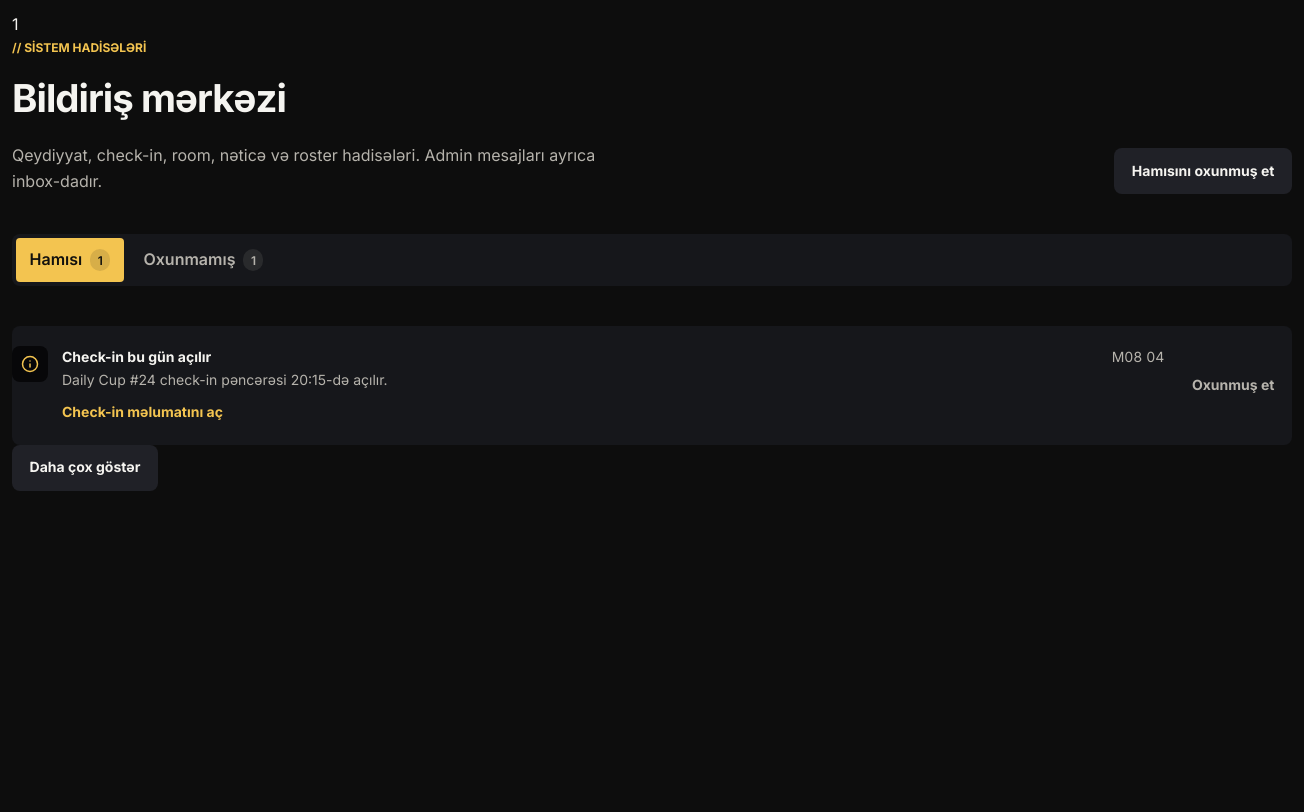
workspace acknowledged persistence and authority › updates shared notification state only after acknowledgement without refetching
Click the button "Hamısını oxunmuş et": (1203, 171) x1=1114 y1=148 x2=1292 y2=194
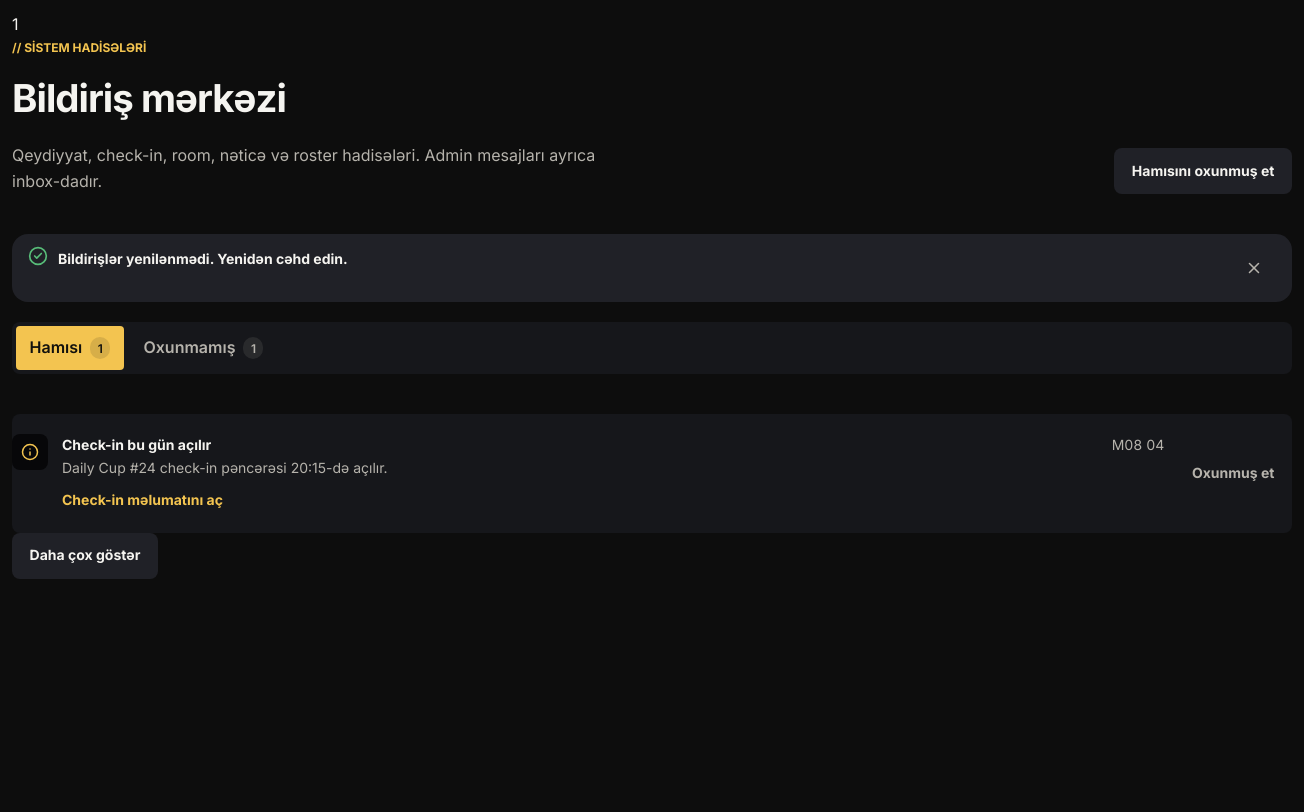
Expected: the text named "Unread count" reads "1", x1=12 y1=14 x2=18 y2=34
Expected: the text "Bildirişlər yenilənmədi. Yenidən cəhd edin." is shown, x1=58 y1=250 x2=348 y2=267
Click the button "Hamısını oxunmuş et": (1203, 171) x1=1114 y1=148 x2=1292 y2=194
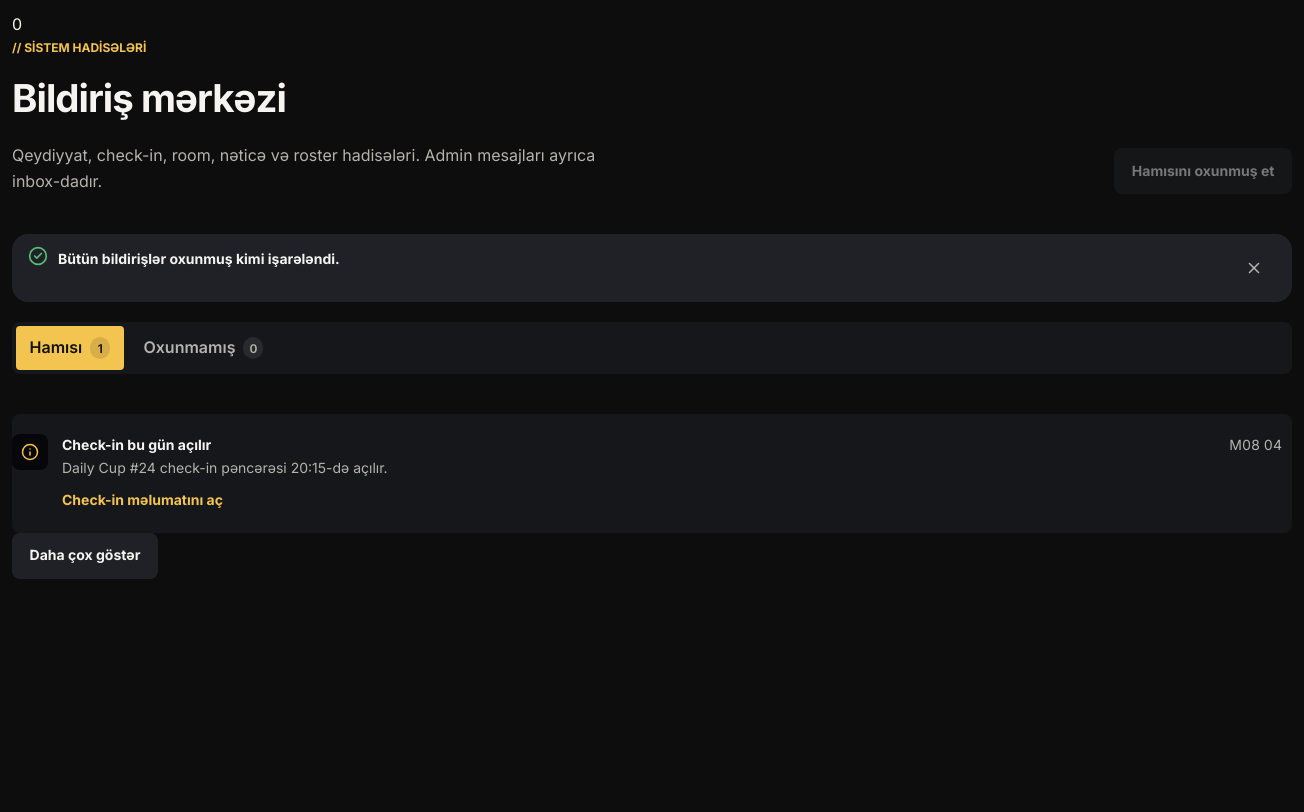
Expected: the text named "Unread count" reads "0", x1=12 y1=14 x2=22 y2=34
